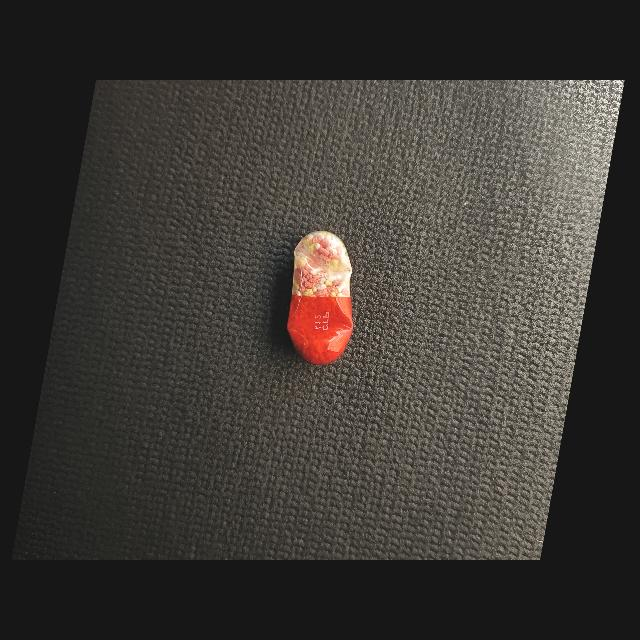Defective Capsule: (287, 231, 353, 365)
